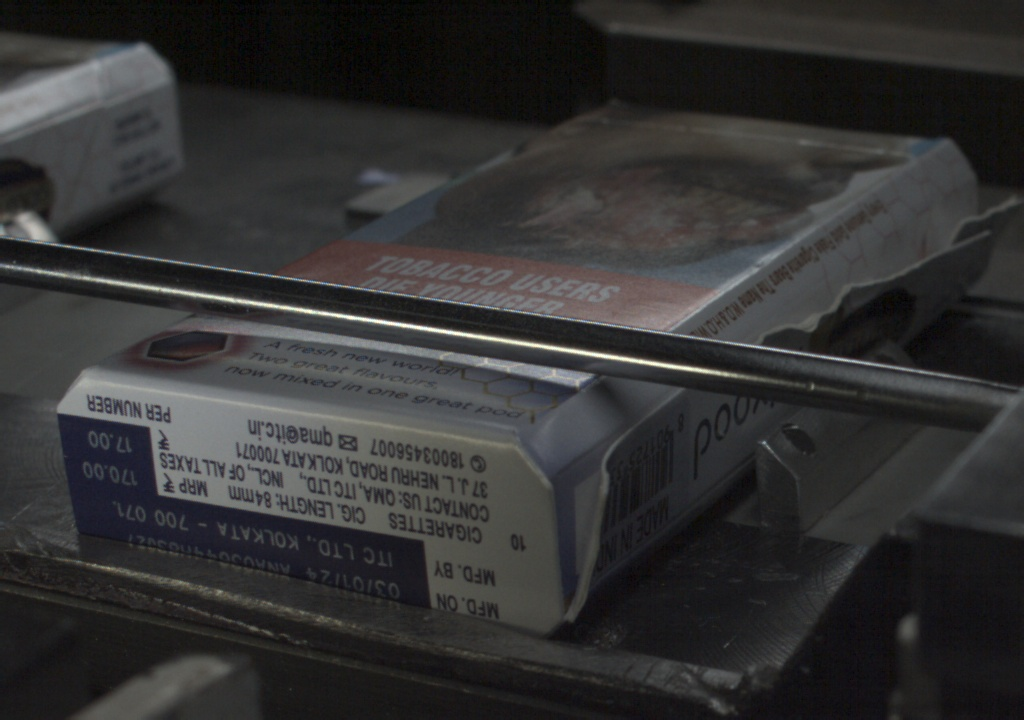g_bottom: (57, 377, 564, 641)
g_label: (70, 492, 428, 611)
g_lmiter: (853, 219, 941, 285), (759, 286, 848, 344)
ng_lmiter: (562, 442, 617, 616)
ng_miter: (946, 160, 1022, 266)
price: (66, 424, 158, 493)
